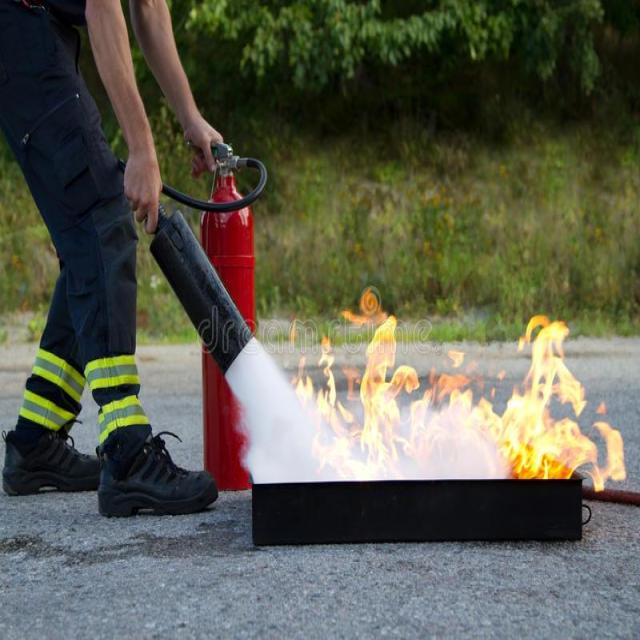fire_extinguisher: (112, 145, 273, 500)
